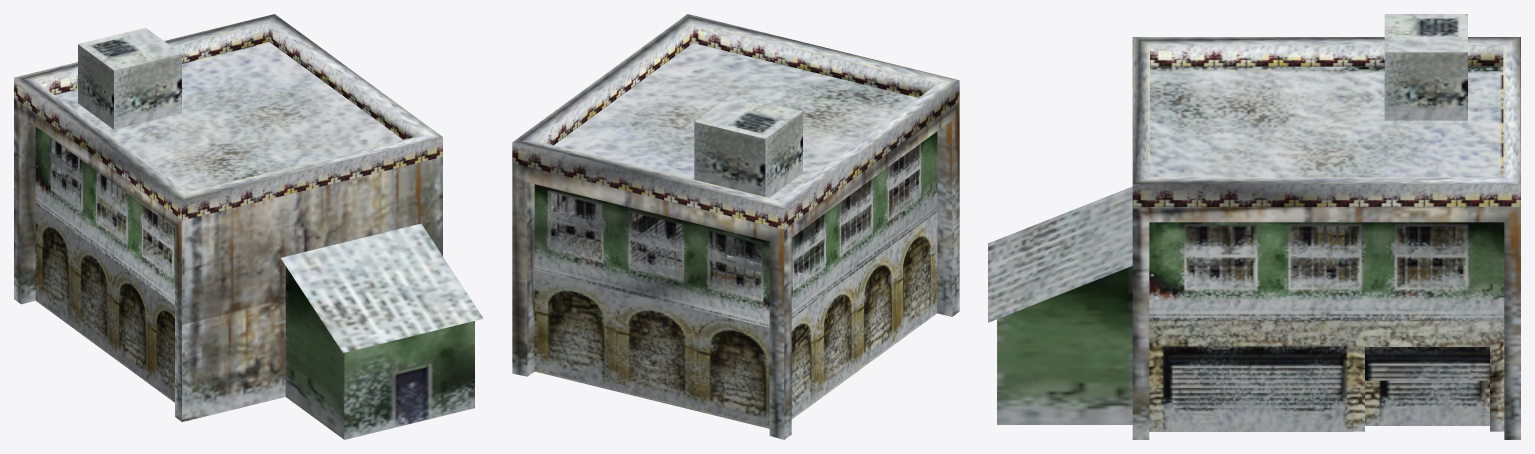
Rendered from Civilian - Civilian Building - Hanger 01 - Snow - CBVHanger1_S.glb.
The picture shows the model from 3 angles, left to right: view 1: azimuth 30°, elevation 25°; view 2: azimuth 150°, elevation 25°; view 3: azimuth 270°, elevation 25°; orthographic projection. The views are drawn at different scales.
Visible parts, largest first — view 1: CBVHANGER1_S; view 2: CBVHANGER1_S; view 3: CBVHANGER1_S.
Boxes of the visible parts, x1,y1,x2,y2 form: CBVHANGER1_S: (14,14,483,439); CBVHANGER1_S: (512,14,959,439); CBVHANGER1_S: (988,14,1520,439).
Bounding box in the file's own units: 39.95 × 38.32 × 61.21.
Materials: 1 (1 with a texture image).
